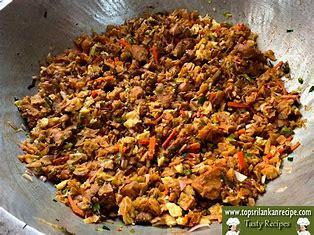Kottu: (24, 9, 297, 200)
